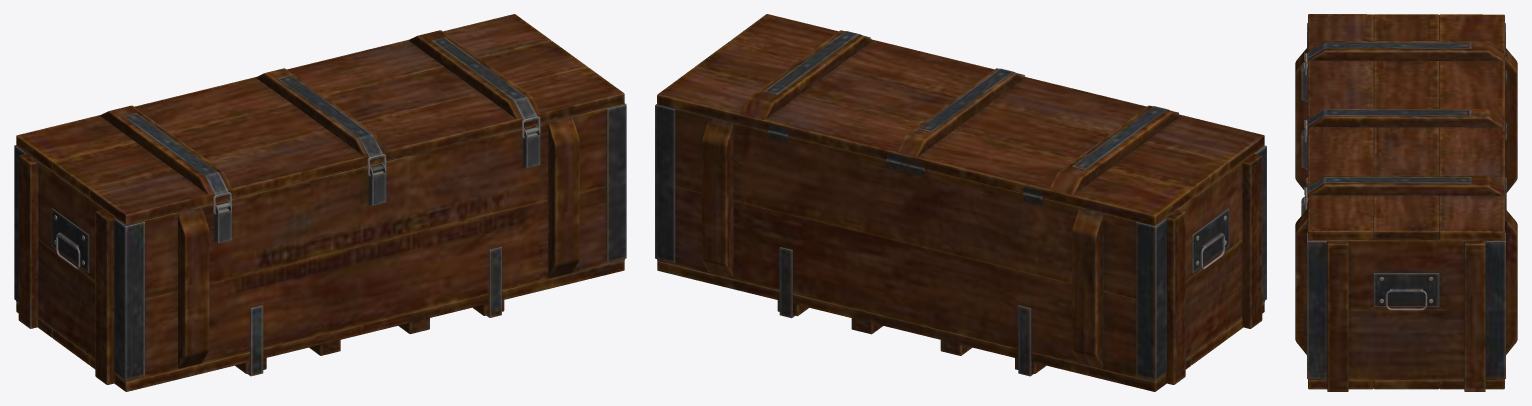
3 renders of one model, left to right at view 1: azimuth 30°, elevation 25°; view 2: azimuth 150°, elevation 25°; view 3: azimuth 270°, elevation 25°, orthographic. The views are drawn at different scales.
Parts seen in each view (by area): view 1: wooden_military_crate, wooden_military_crate_lid; view 2: wooden_military_crate, wooden_military_crate_lid; view 3: wooden_military_crate_lid, wooden_military_crate.
Boxes of the visible parts, x1,y1,x2,y2 form: wooden_military_crate: (14,103,626,391); wooden_military_crate_lid: (16,14,624,224); wooden_military_crate: (655,104,1266,391); wooden_military_crate_lid: (657,14,1264,225); wooden_military_crate_lid: (1304,14,1506,240); wooden_military_crate: (1295,23,1517,391).
Bounding box in the file's own units: 1.24 × 0.4648 × 0.5198.
1 material, 1 textured.
